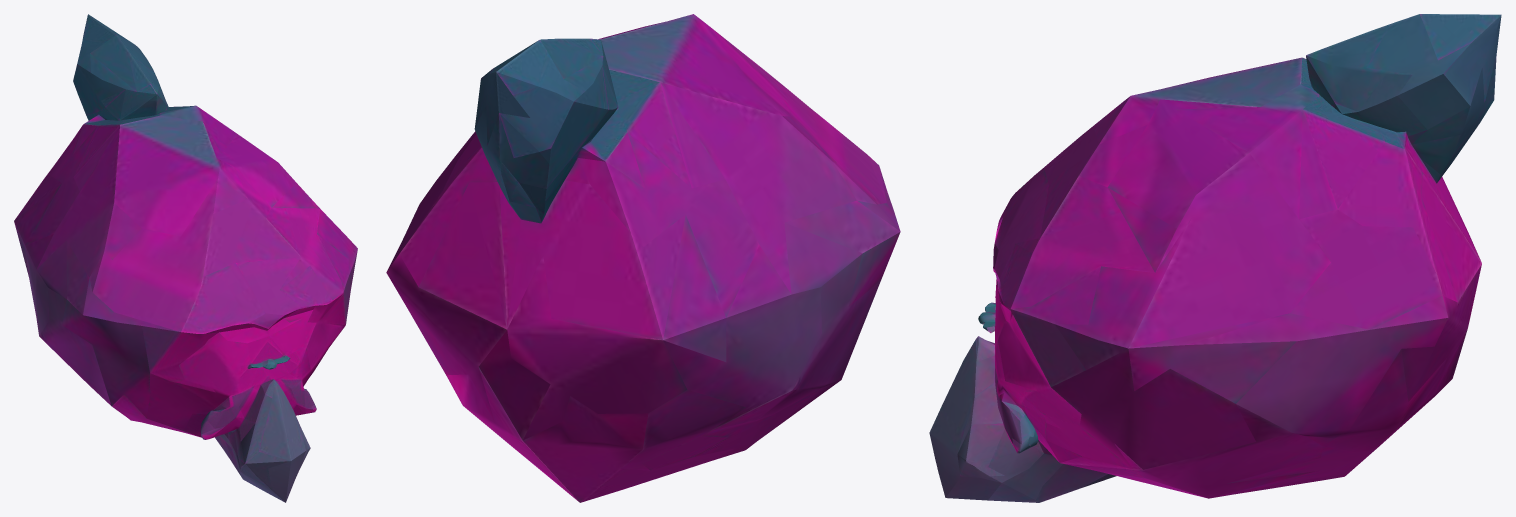
The model's file is shard.glb.
3 views of the same model, side by side, from view 1: azimuth 30°, elevation 25°; view 2: azimuth 150°, elevation 25°; view 3: azimuth 270°, elevation 25° (orthographic). The views are drawn at different scales.
Bounding box in the file's own units: 1.48 × 1.78 × 1.9.
1 material, 1 textured.
